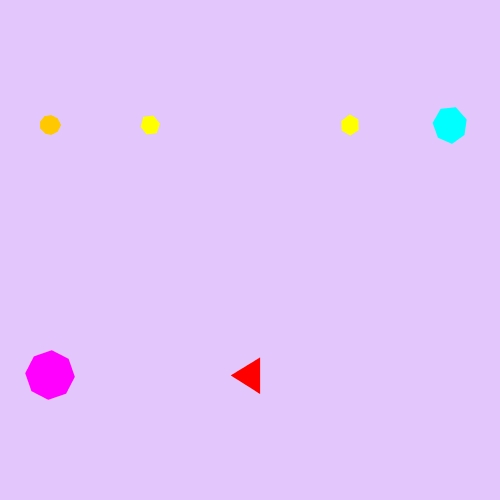heptagon: (428, 104, 472, 146)
hexagon: (135, 112, 165, 138), (335, 112, 365, 138)
nonagon: (36, 111, 65, 139)
octagon: (22, 347, 79, 404)
triangle: (231, 355, 270, 396)
